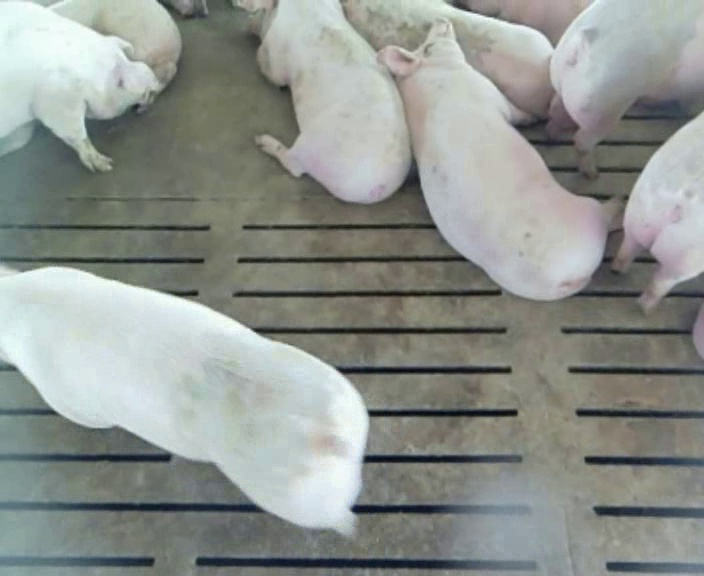pig: (379, 19, 619, 299), (233, 2, 410, 202), (544, 2, 703, 176), (343, 2, 553, 117), (612, 112, 703, 310)
